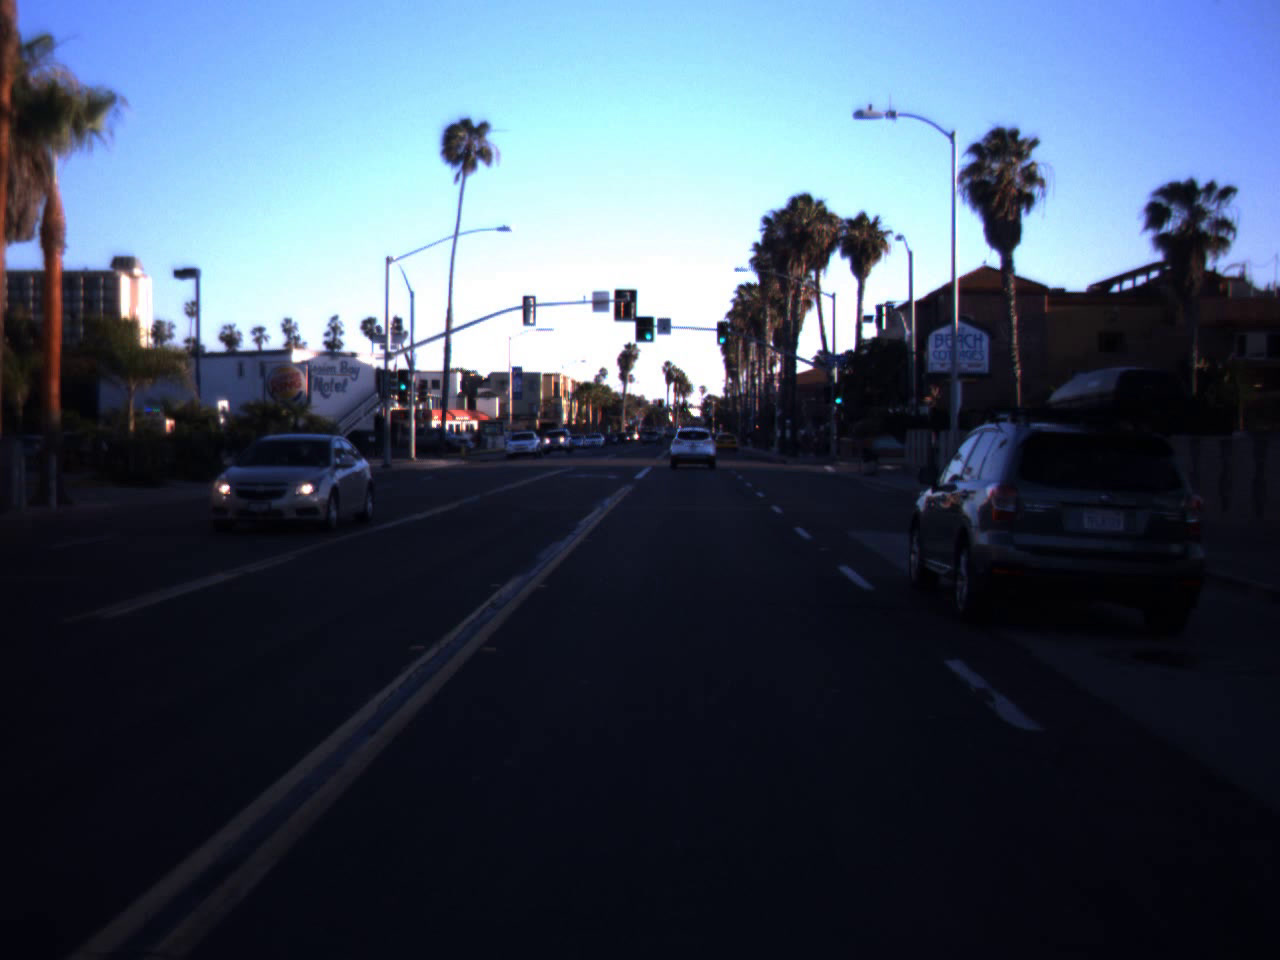go: (716, 320, 728, 345), (397, 371, 409, 391), (642, 321, 654, 341), (833, 384, 844, 404)
